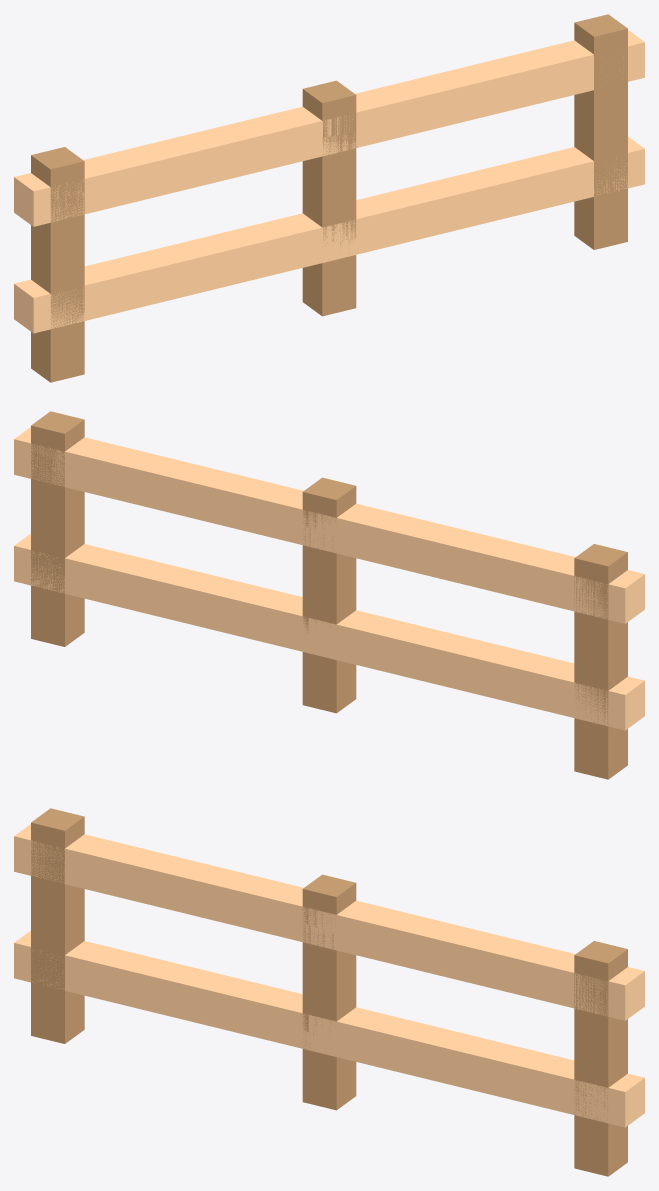
File: destruct_wood_fence.glb
3 renders of one model, top to bottom at view 1: azimuth 30°, elevation 25°; view 2: azimuth 150°, elevation 25°; view 3: azimuth 330°, elevation 25°, orthographic.
Parts seen in each view (by area): view 1: wood_fence; view 2: wood_fence; view 3: wood_fence.
Boxes of the visible parts, <box> form: wood_fence: <box>14,14,644,382</box>; wood_fence: <box>14,411,644,779</box>; wood_fence: <box>14,808,644,1176</box>.
Size of the model in its own units: 0.9 by 0.3 by 0.05.
